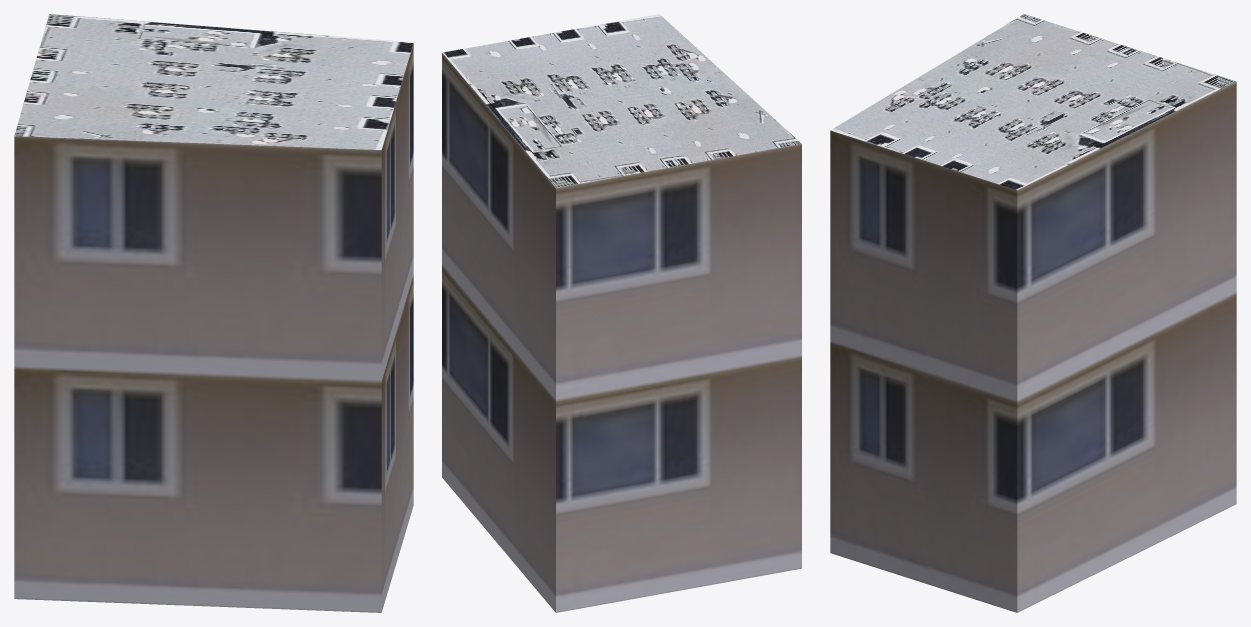
The model's file is ResTex__2198.fbx.
3 renders of one model, left to right at view 1: azimuth 30°, elevation 25°; view 2: azimuth 150°, elevation 25°; view 3: azimuth 270°, elevation 25°, orthographic. The views are drawn at different scales.
Parts seen in each view (by area): view 1: CityEngineMaterial_21_m, CityEngineMaterial_4_m; view 2: CityEngineMaterial_21_m, CityEngineMaterial_4_m; view 3: CityEngineMaterial_21_m, CityEngineMaterial_4_m.
Boxes of the visible parts, <box> form: CityEngineMaterial_21_m: <box>14,43,413,612</box>; CityEngineMaterial_4_m: <box>14,14,413,149</box>; CityEngineMaterial_21_m: <box>442,53,801,612</box>; CityEngineMaterial_4_m: <box>442,14,801,187</box>; CityEngineMaterial_21_m: <box>830,81,1236,612</box>; CityEngineMaterial_4_m: <box>830,14,1236,190</box>.
Size of the model in its own units: 5.37 by 6 by 5.23.
2 materials, 2 textured.
